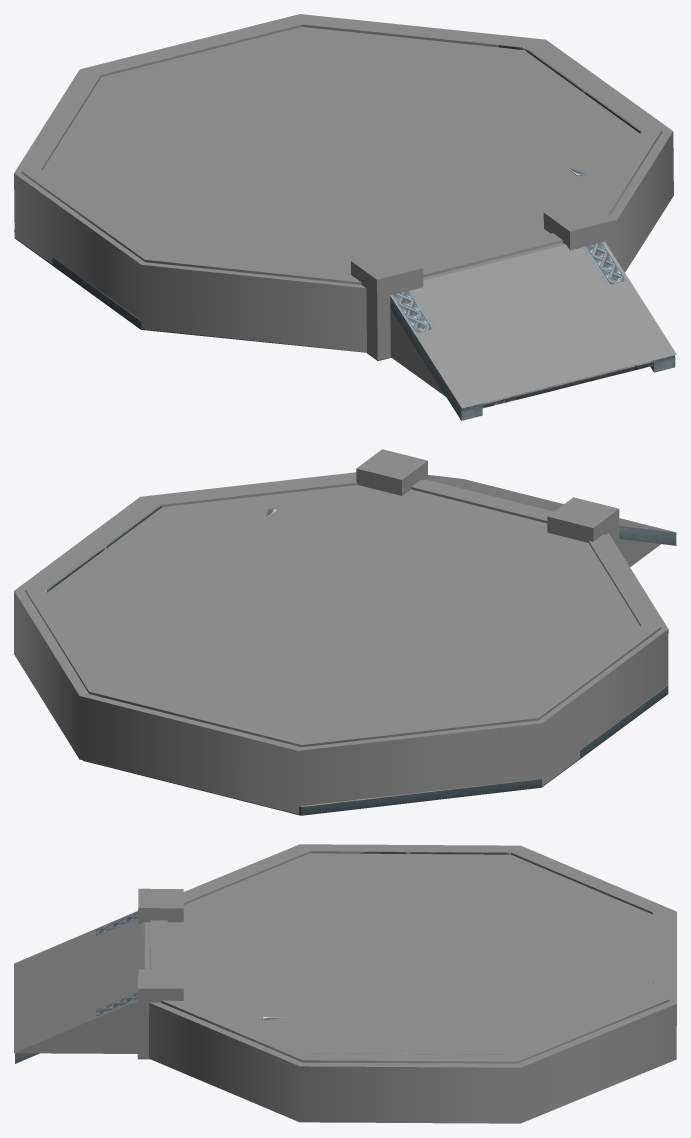
Rendered from Scene_Build_TianShan_ShiTai_02.FBX.
3 renders of one model, top to bottom at view 1: azimuth 30°, elevation 25°; view 2: azimuth 150°, elevation 25°; view 3: azimuth 270°, elevation 25°, orthographic. The views are drawn at different scales.
Visible parts, largest first — view 1: Scene_Build_TianShan_ShiTai_02_Xzm, Scene_Build_TianShan_ShiTai_02b, Scene_Build_TianShan_ShiTai_02a; view 2: Scene_Build_TianShan_ShiTai_02_Xzm, Scene_Build_TianShan_ShiTai_02a, Scene_Build_TianShan_ShiTai_02b; view 3: Scene_Build_TianShan_ShiTai_02_Xzm, Scene_Build_TianShan_ShiTai_02b, Scene_Build_TianShan_ShiTai_02a.
Part boxes in pixels (x1,y1,x2,y2): Scene_Build_TianShan_ShiTai_02_Xzm: [14, 14, 676, 408]; Scene_Build_TianShan_ShiTai_02b: [390, 242, 675, 420]; Scene_Build_TianShan_ShiTai_02a: [14, 45, 653, 408]; Scene_Build_TianShan_ShiTai_02_Xzm: [14, 449, 676, 814]; Scene_Build_TianShan_ShiTai_02a: [45, 505, 668, 815]; Scene_Build_TianShan_ShiTai_02b: [428, 476, 676, 545]; Scene_Build_TianShan_ShiTai_02_Xzm: [14, 844, 676, 1123]; Scene_Build_TianShan_ShiTai_02b: [15, 911, 138, 1063]; Scene_Build_TianShan_ShiTai_02a: [138, 851, 510, 1059].
Size of the model in its own units: 2474 by 418 by 3073.
